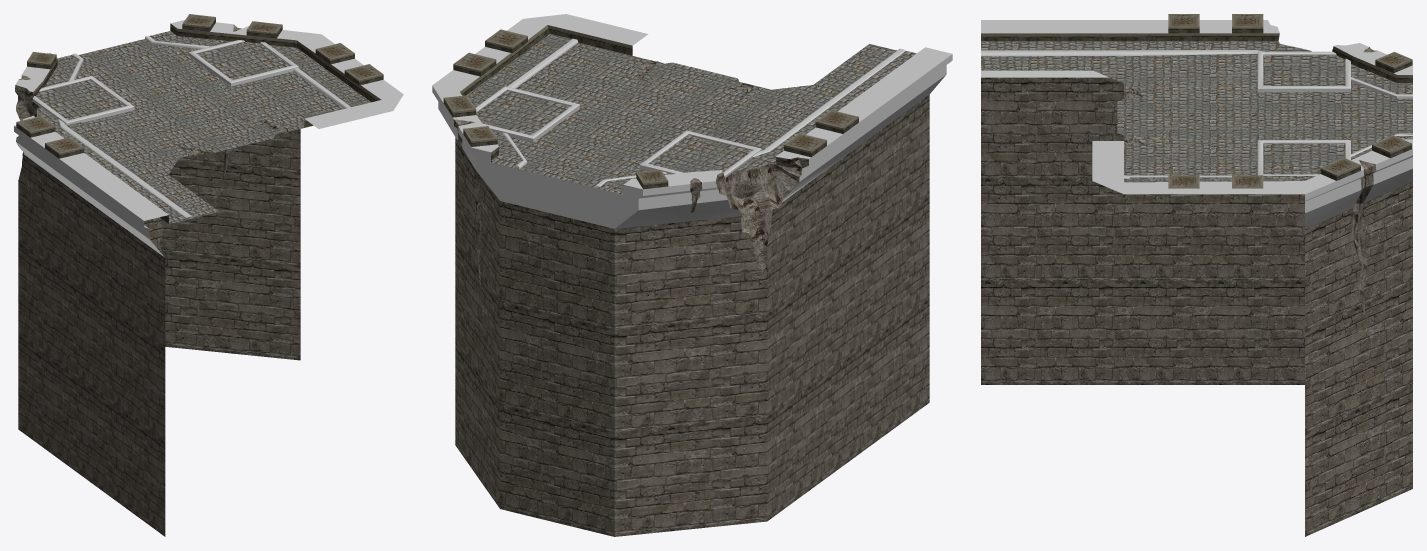
Rendered from SM_BridgeLanding.FBX.
3 views of the same model, side by side, from view 1: azimuth 30°, elevation 25°; view 2: azimuth 150°, elevation 25°; view 3: azimuth 270°, elevation 25° (orthographic). The views are drawn at different scales.
Parts seen in each view (by area): view 1: SM_BridgeLanding; view 2: SM_BridgeLanding; view 3: SM_BridgeLanding.
Boxes of the visible parts, x1,y1,x2,y2 form: SM_BridgeLanding: [14, 14, 403, 536]; SM_BridgeLanding: [432, 14, 952, 536]; SM_BridgeLanding: [981, 14, 1412, 536].
Size of what is drawn, in the model's own units: 2053 by 2147 by 1973.
